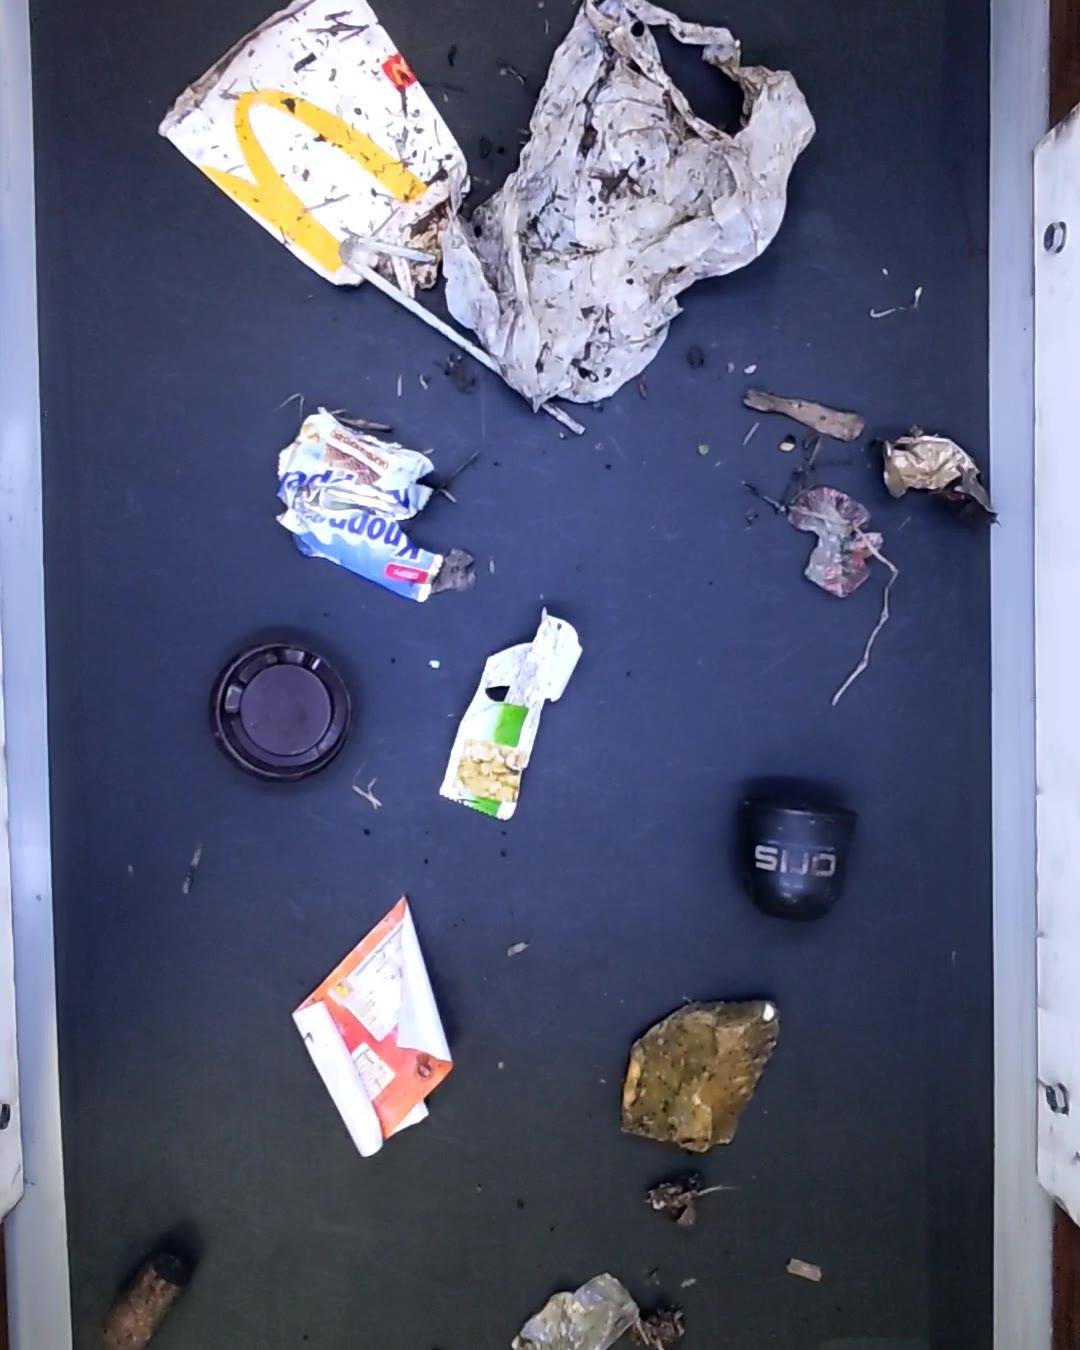Plastic folies of stukken daarvan 2.5- 50 cm: (446, 0, 824, 407), (512, 1271, 639, 1350)
Snoep snack en chips verpakkingen: (280, 403, 472, 600), (441, 614, 588, 825), (791, 487, 874, 600)
